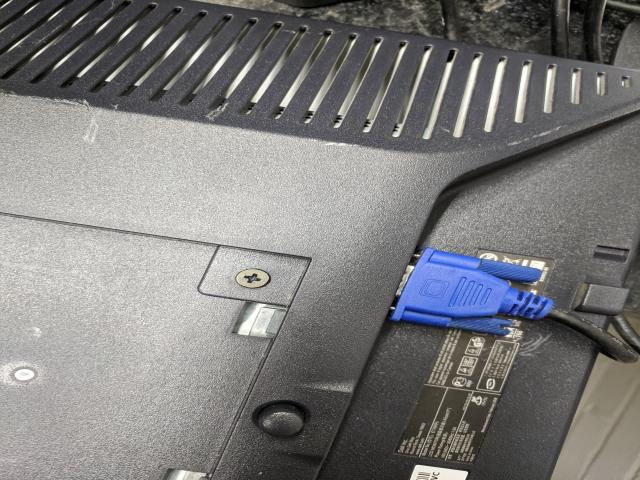CRS: (231, 269, 270, 288)
